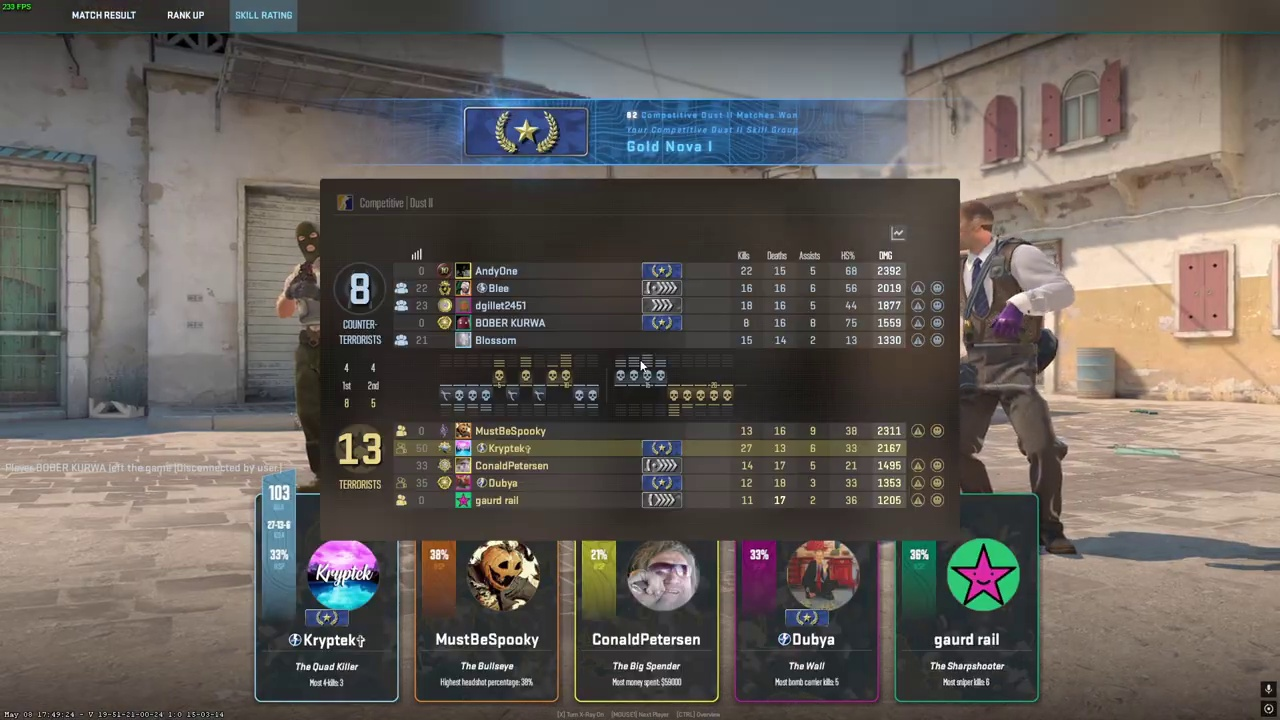Terrorist: (958, 201, 1072, 548), (280, 220, 321, 487)
